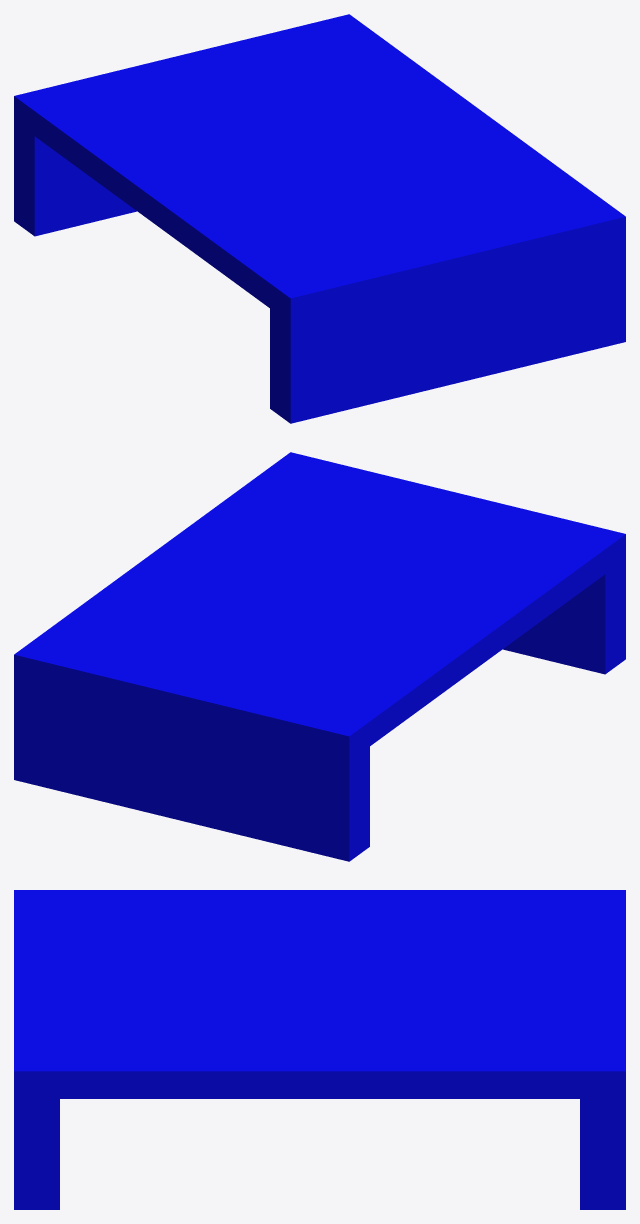
Rendered from palette.dae.
The picture shows the model from 3 angles, top to bottom: view 1: azimuth 30°, elevation 25°; view 2: azimuth 150°, elevation 25°; view 3: azimuth 270°, elevation 25°; orthographic projection. The views are drawn at different scales.
Visible parts, largest first — view 1: PaletteTIS; view 2: PaletteTIS; view 3: PaletteTIS.
Part boxes in pixels (x1,y1,x2,y2): PaletteTIS: [14, 14, 625, 423]; PaletteTIS: [14, 452, 625, 861]; PaletteTIS: [14, 890, 625, 1209].
Bounding box in the file's own units: 0.7 × 1 × 0.25.
